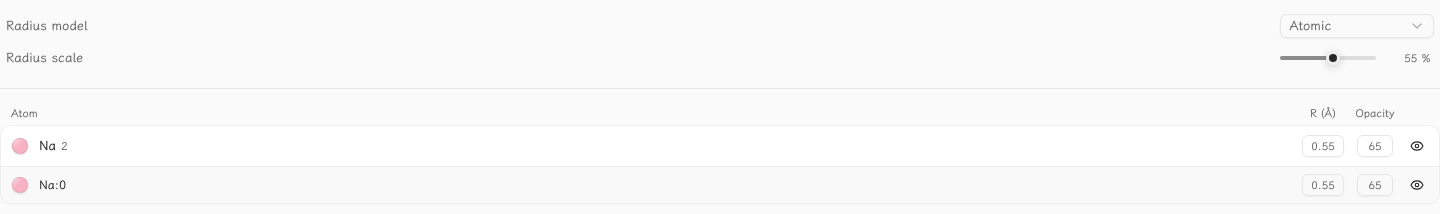
Test: AtomsPanel › shows inherited opacity and clears atom overrides when the element value changes
Expected: the field named "Na opacity" holds "65", [1357,135,1393,157]
Type "35" into the field named "Na:0 opacity".
click(1375, 185); type("35")  # box [1357,174,1393,196]
Then press Enter
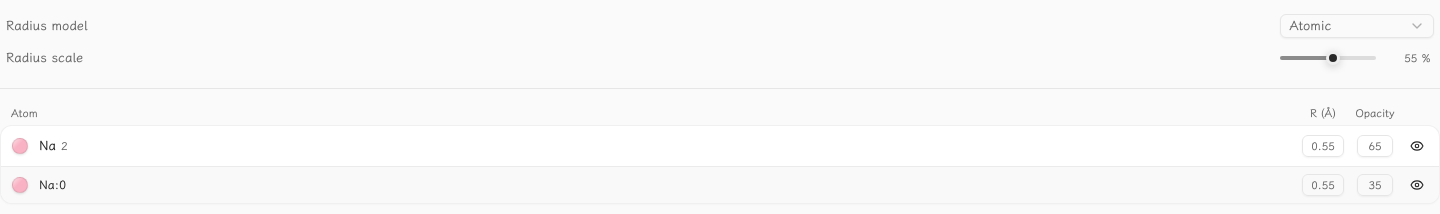
Type "80" into the field named "Na opacity".
click(1375, 146); type("80")  # box [1357,135,1393,157]
Then press Enter
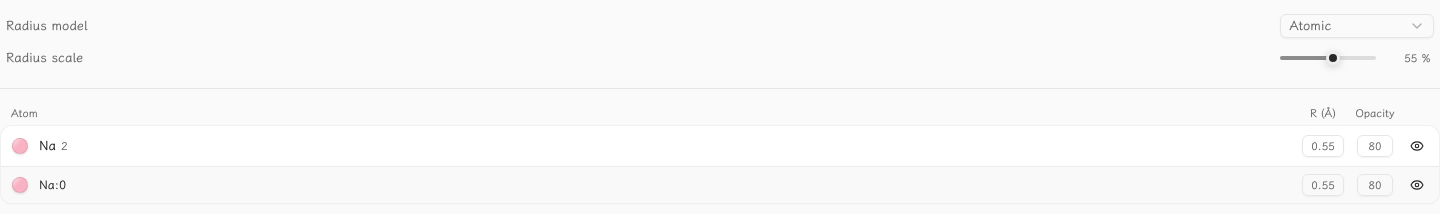
Expected: the field named "Na:0 opacity" holds "80", [1357,174,1393,196]
